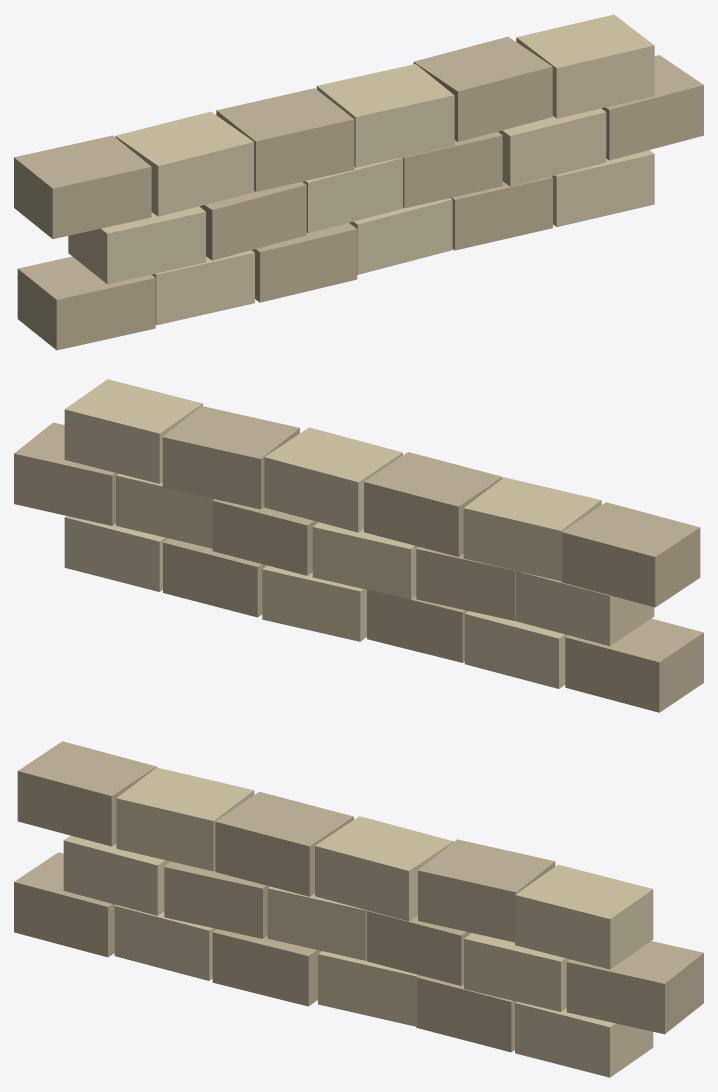
The model's file is sandbags.glb.
3 renders of one model, top to bottom at view 1: azimuth 30°, elevation 25°; view 2: azimuth 150°, elevation 25°; view 3: azimuth 330°, elevation 25°, orthographic.
Parts seen in each view (by area): view 1: Sandbags; view 2: Sandbags; view 3: Sandbags.
Part boxes in pixels (x1=…): Sandbags: x1=14, y1=14, x2=703, y2=350; Sandbags: x1=14, y1=379, x2=703, y2=712; Sandbags: x1=14, y1=741, x2=703, y2=1077.
Bounding box in the file's own units: 3.77 × 0.88 × 0.4867.
